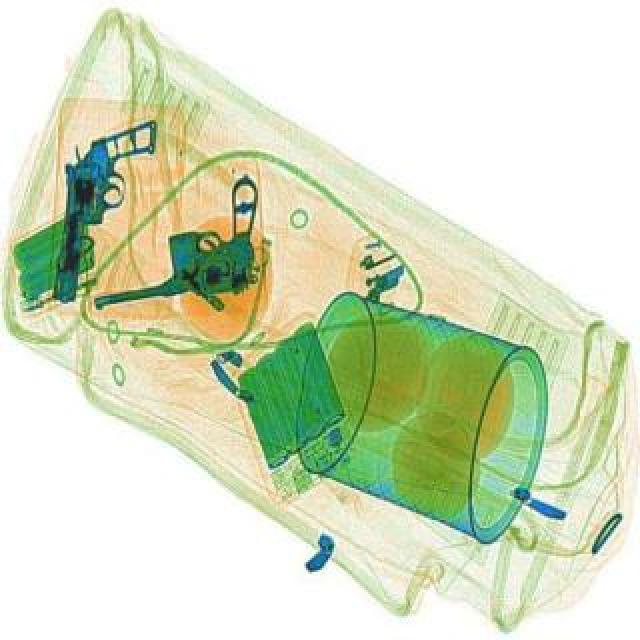gun: (76, 176, 272, 304), (50, 114, 154, 308)
